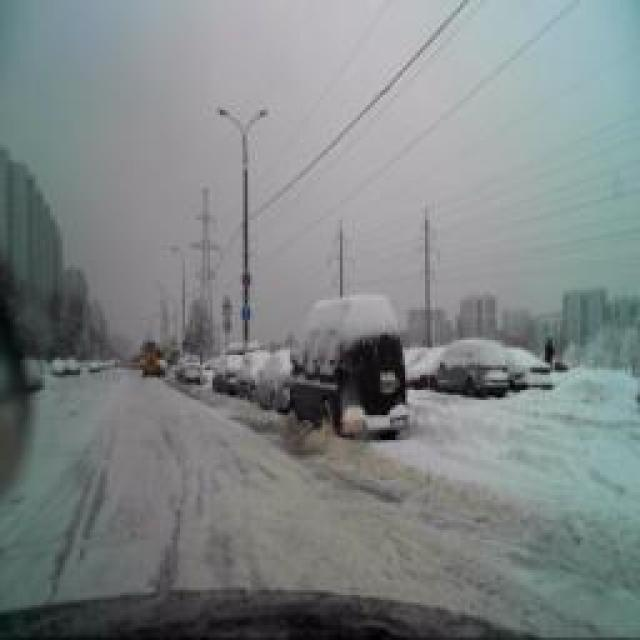sign: (240, 269, 252, 289), (222, 316, 232, 332)
